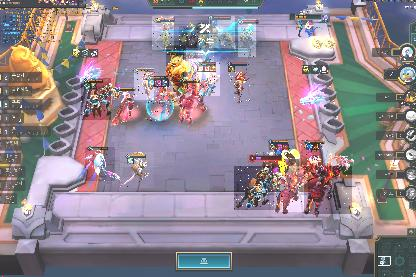1_bard: (179, 26, 199, 48)
1_hecarim: (274, 166, 308, 212)
1_yasuo: (184, 50, 202, 80)
2_aoshin: (209, 16, 235, 48)
2_bard: (268, 139, 292, 173)
2_graves: (238, 19, 256, 57)
2_hecarim: (304, 166, 352, 214), (180, 80, 202, 120)
2_jayce: (234, 166, 280, 210), (81, 78, 111, 120)
2_leesin: (196, 62, 220, 96)
2_rakan: (114, 87, 140, 123)
2_sett: (228, 62, 250, 104), (134, 68, 154, 100)
2_shyvana: (146, 77, 174, 121)
2_soraka: (85, 147, 115, 181)
2_twitch: (120, 152, 154, 188)
2_xayah: (301, 140, 323, 170)
3_kaisa: (198, 24, 214, 62)
3_karma: (152, 16, 174, 50)
3_volibear: (166, 46, 186, 86)
